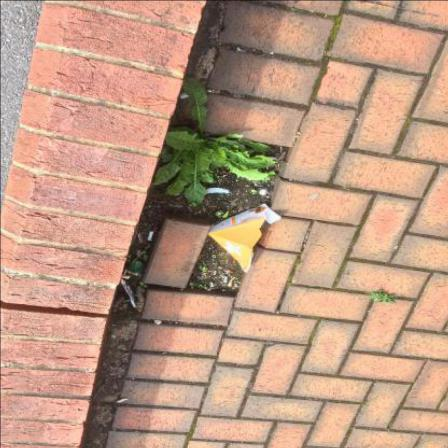Aluminium foil: (120, 279, 136, 308)
Bottle cap: (131, 261, 145, 274)
Carton: (209, 205, 282, 274)
Cigarette: (128, 271, 141, 277), (148, 231, 154, 241), (122, 276, 131, 280), (224, 277, 229, 283), (214, 272, 217, 276)
